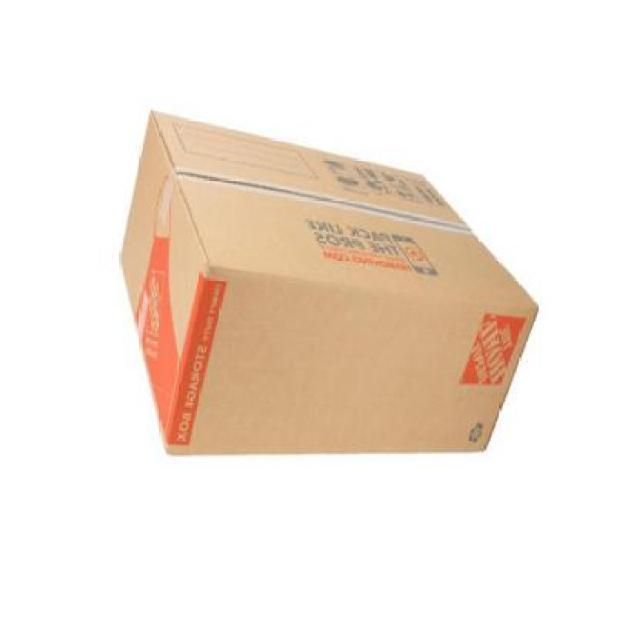cardboxes: (120, 110, 540, 458)
